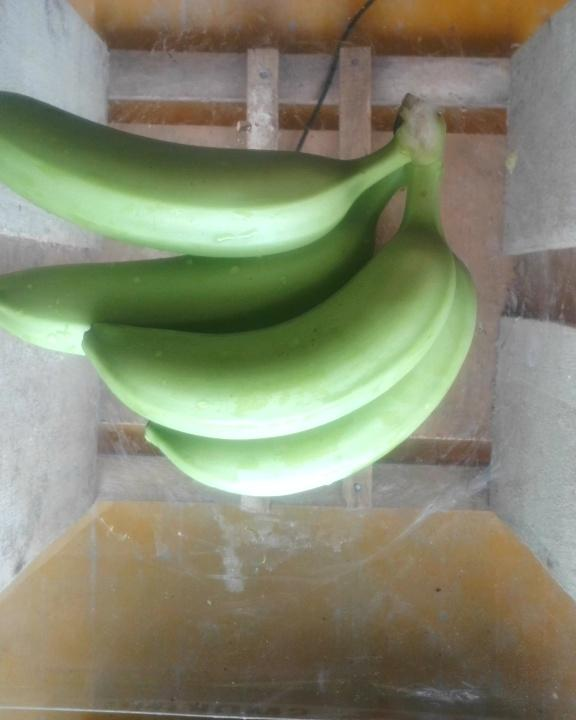SPOT: (1, 77, 494, 506)
